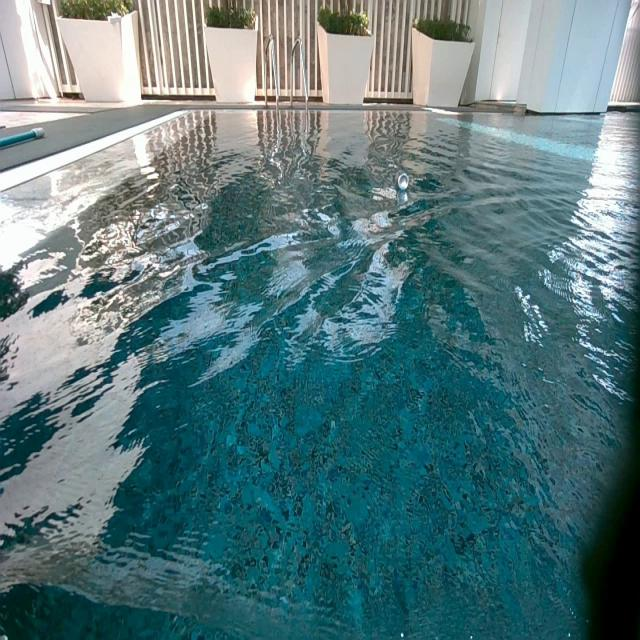Cans: (396, 173, 409, 188)
